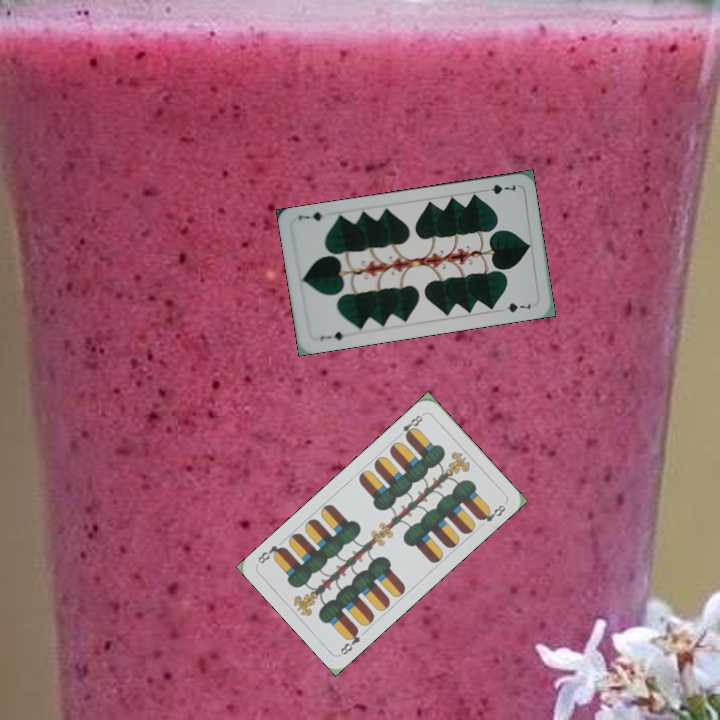E8: (393, 410, 427, 441), (336, 625, 363, 658)
G7: (479, 180, 519, 197), (316, 328, 346, 343)
